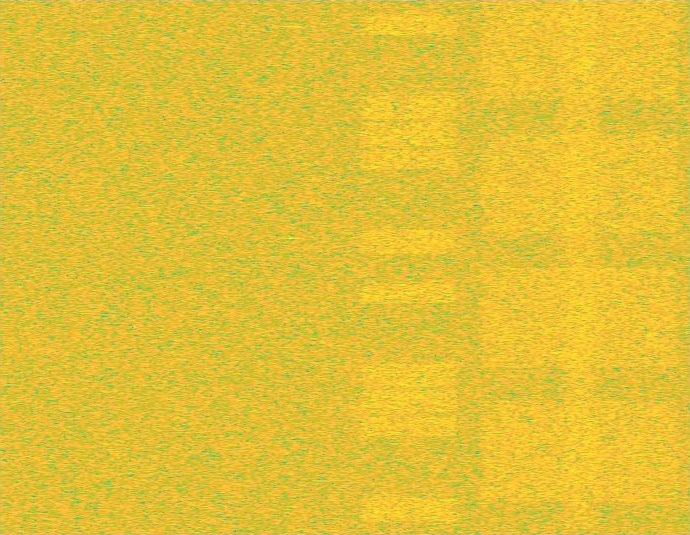5G: (477, 0, 684, 534)
DSSS: (557, 0, 603, 534)
LTE: (357, 0, 461, 534)
Radar: (285, 0, 299, 534)
